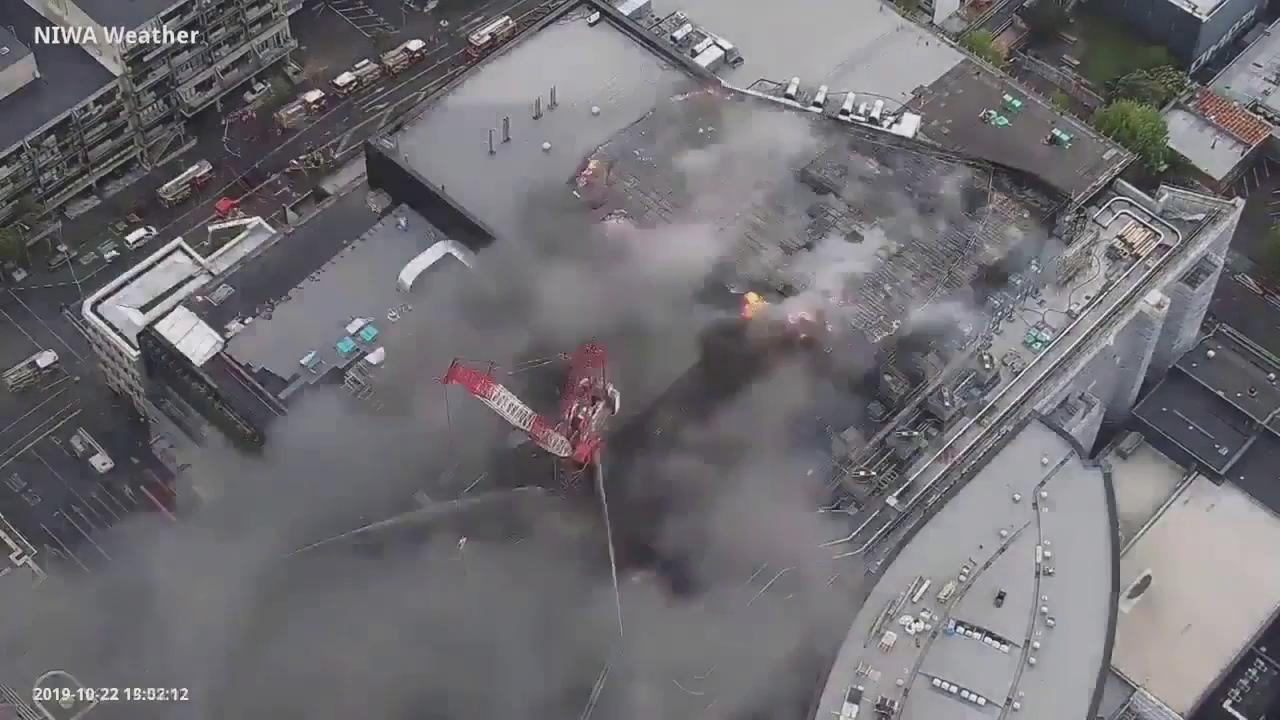fire: (576, 157, 597, 192), (742, 287, 760, 319)
